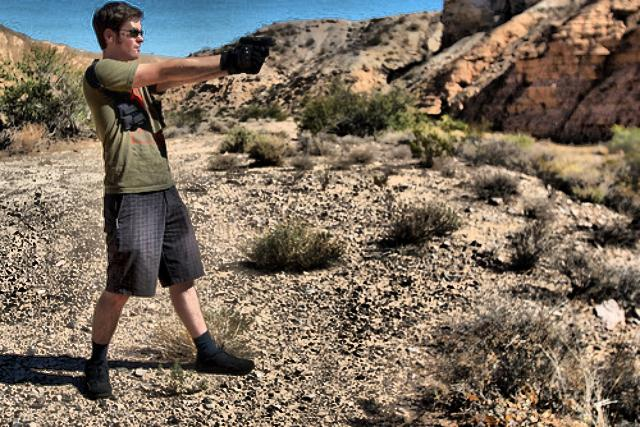pistol: (238, 32, 276, 60)
